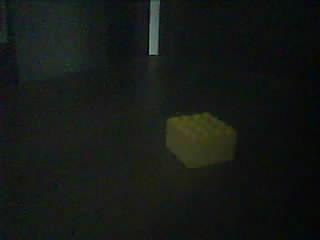lego: (164, 112, 237, 169)
